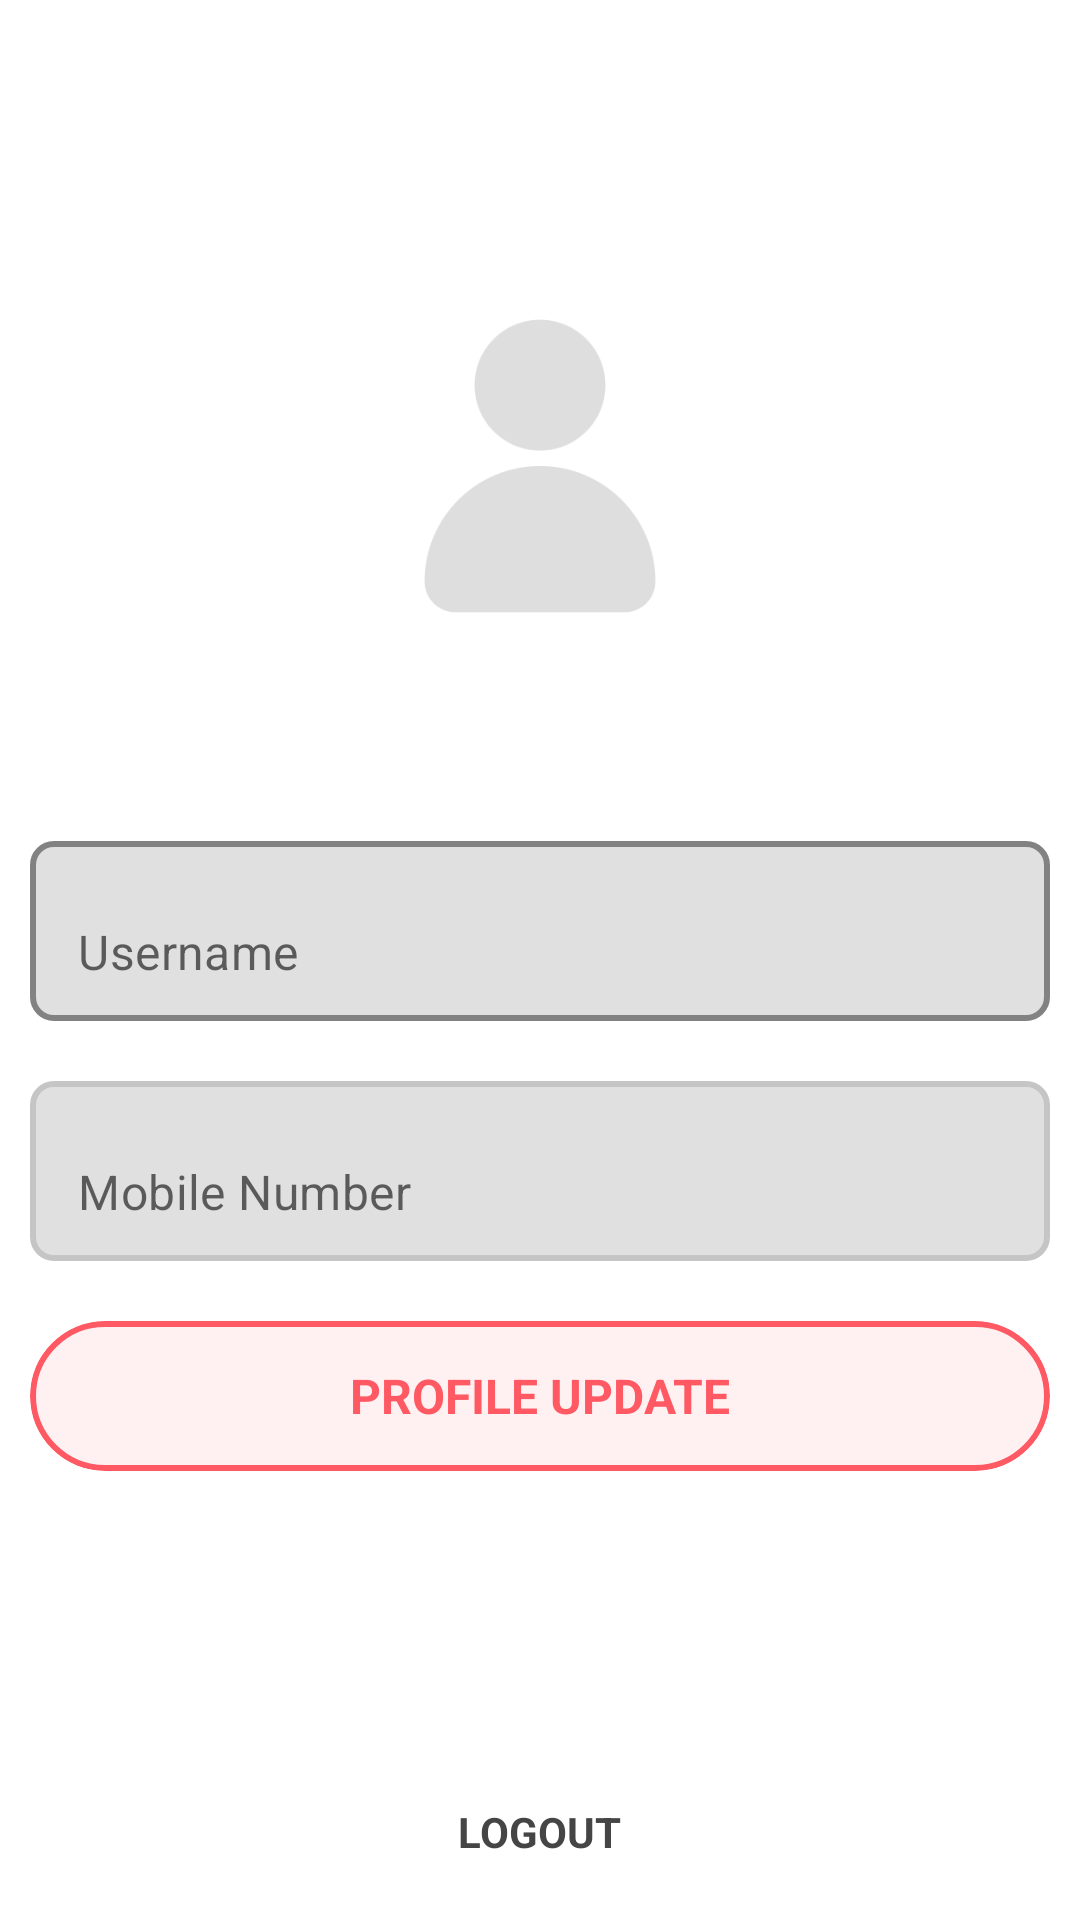

Where icons sit on this 1080*1920 app screen, as {"x1": x1, "y1": y1, "x2": x2, "y2": y2}:
profile: {"x1": 425, "y1": 320, "x2": 655, "y2": 612}
